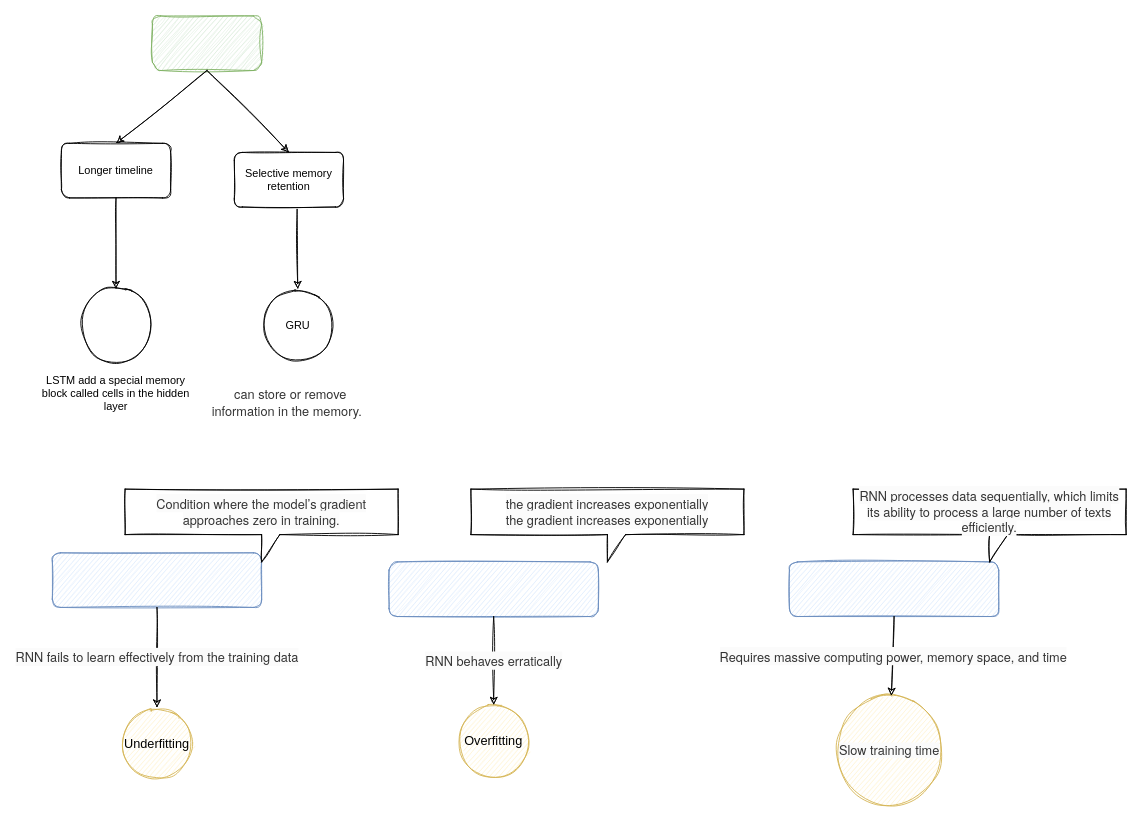
The diagram is 1142 pixels wide and 821 high, and some of its shapes have lost their labels. The shapes that lost their labels are listed below. From the top down, each one's centre as x and y in pixels, then its label:
(x=207, y=43): RNN Variants
(x=115, y=325): LSTM
(x=156, y=579): Vanishing gradient
(x=493, y=589): Exploding gradient
(x=894, y=589): Process data sequentially
